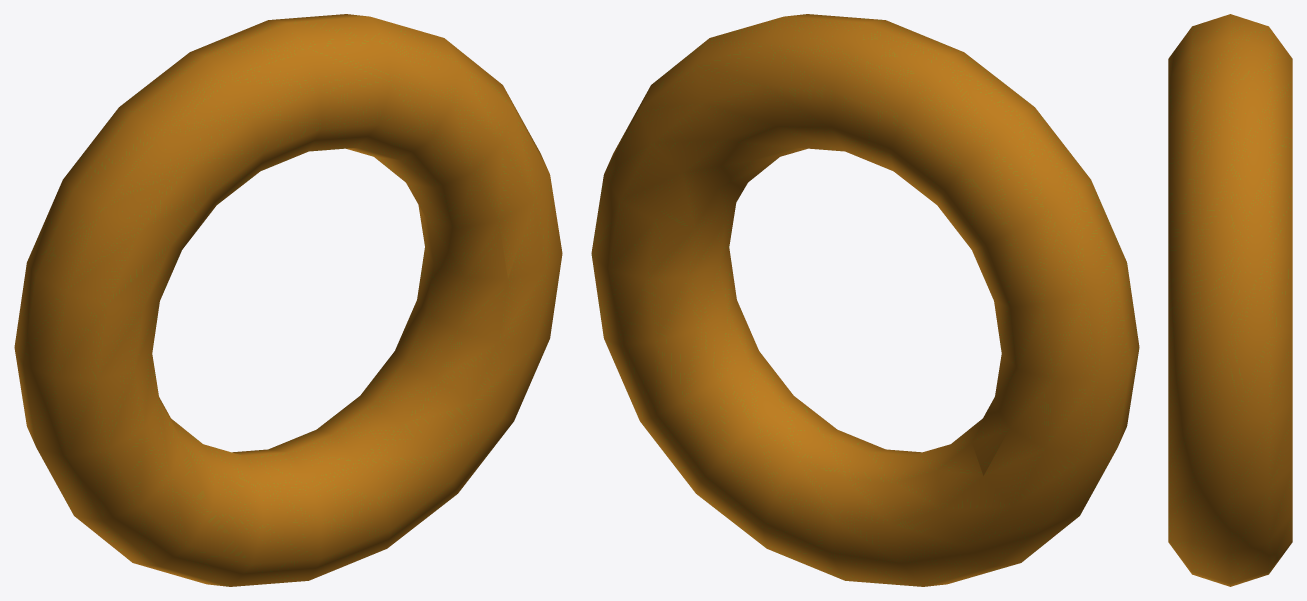
Rendered from Ring.obj.
3 renders of one model, left to right at view 1: azimuth 30°, elevation 25°; view 2: azimuth 150°, elevation 25°; view 3: azimuth 270°, elevation 25°, orthographic. The views are drawn at different scales.
Visible parts, largest first — view 1: Mesh_0131; view 2: Mesh_0131; view 3: Mesh_0131.
Boxes of the visible parts, x1,y1,x2,y2 form: Mesh_0131: (14,14,562,586); Mesh_0131: (591,14,1139,586); Mesh_0131: (1168,14,1292,586).
Bounding box in the file's own units: 2.8 × 2.8 × 0.6027.
Materials: 1 (1 with a texture image).
